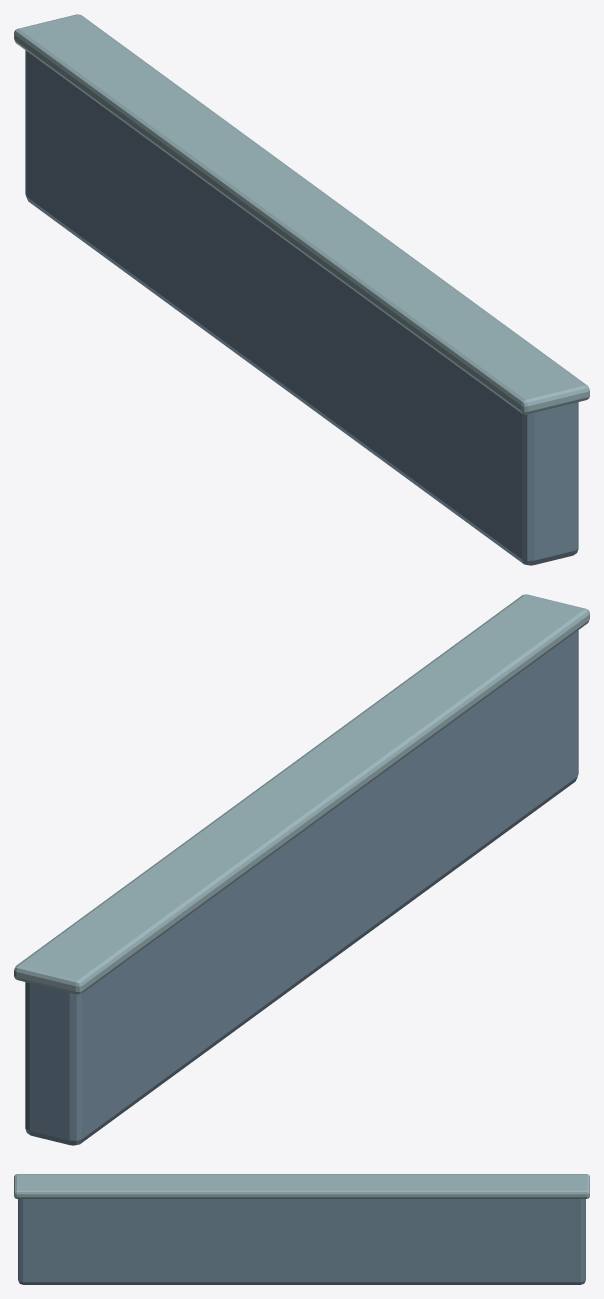
The picture shows the model from 3 angles, top to bottom: view 1: azimuth 30°, elevation 25°; view 2: azimuth 150°, elevation 25°; view 3: azimuth 270°, elevation 25°; orthographic projection. The views are drawn at different scales.
Visible parts, largest first — view 1: ai_export.005; view 2: ai_export.005; view 3: ai_export.005.
Boxes of the visible parts, x1,y1,x2,y2 form: ai_export.005: (14, 14, 589, 565); ai_export.005: (14, 594, 589, 1145); ai_export.005: (14, 1174, 589, 1284).
Bounding box in the file's own units: 0.39 × 0.94 × 5.07.
